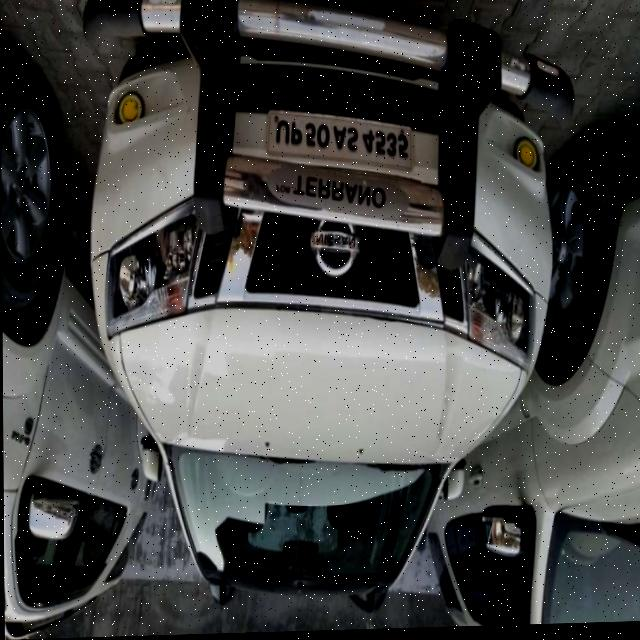plate: (265, 108, 413, 179)
